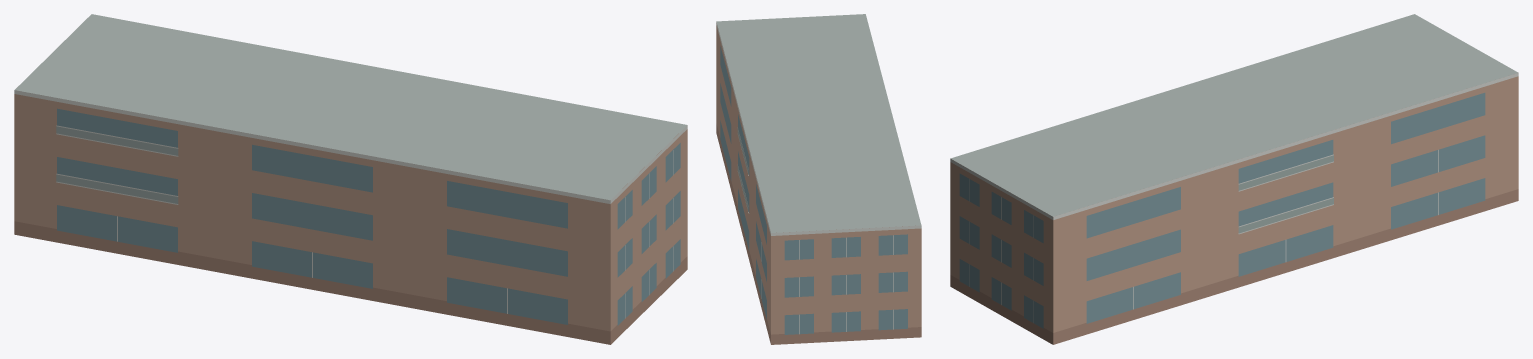
File: survey-upis-32754236.glb
3 views of the same model, side by side, from view 1: azimuth 30°, elevation 25°; view 2: azimuth 150°, elevation 25°; view 3: azimuth 270°, elevation 25° (orthographic). The views are drawn at different scales.
Visible parts, largest first — view 1: survey-upis-32754236.tmp; view 2: survey-upis-32754236.tmp; view 3: survey-upis-32754236.tmp.
Boxes of the visible parts, bbox=[...] form: survey-upis-32754236.tmp: bbox=[14, 14, 687, 344]; survey-upis-32754236.tmp: bbox=[716, 14, 921, 344]; survey-upis-32754236.tmp: bbox=[950, 14, 1518, 344].
Bounding box in the file's own units: 31.07 × 9.15 × 36.79.
